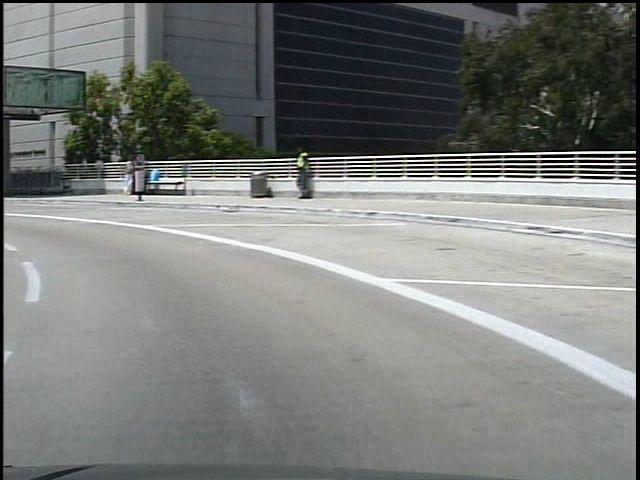person: (285, 142, 308, 201)
